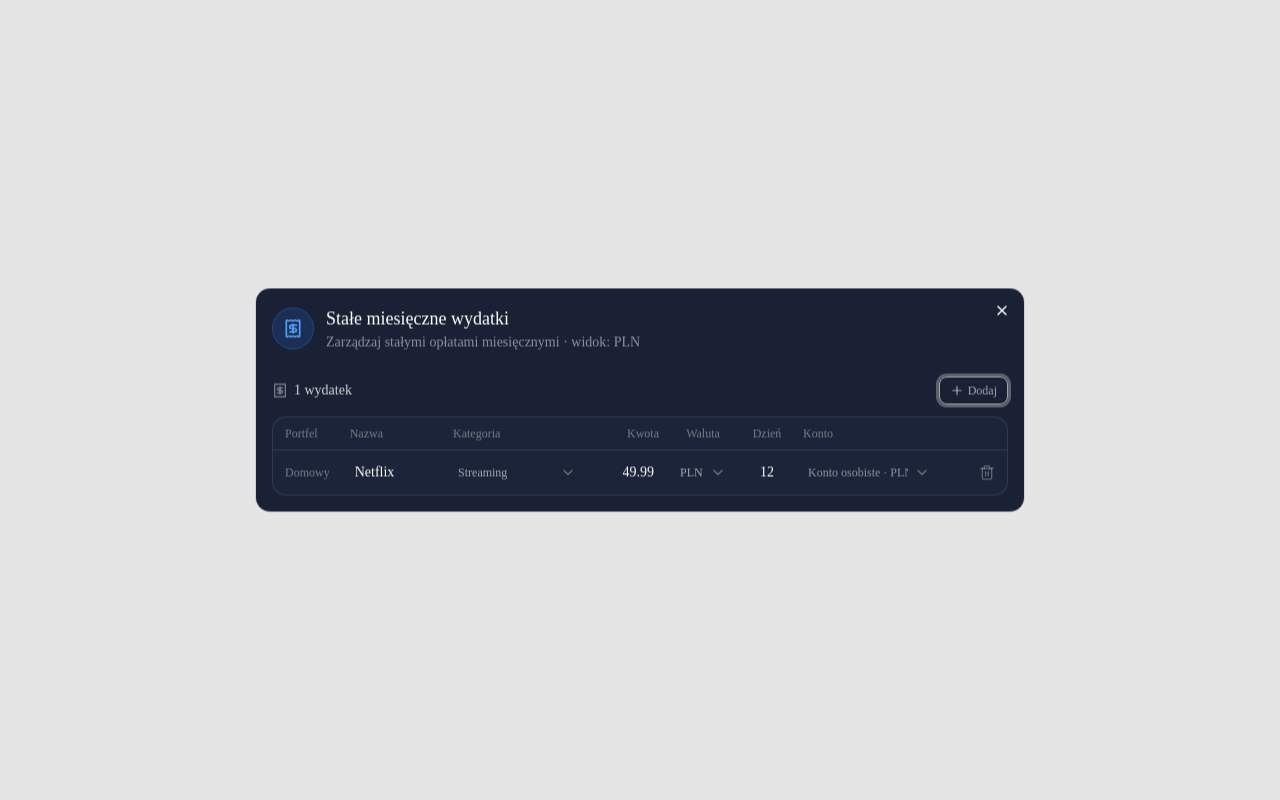
it: RecurringExpensesDialog › keeps existing recurring categories available in the category select
Click the button "Dodaj".
click(973, 390)  # box [939,376,1008,404]
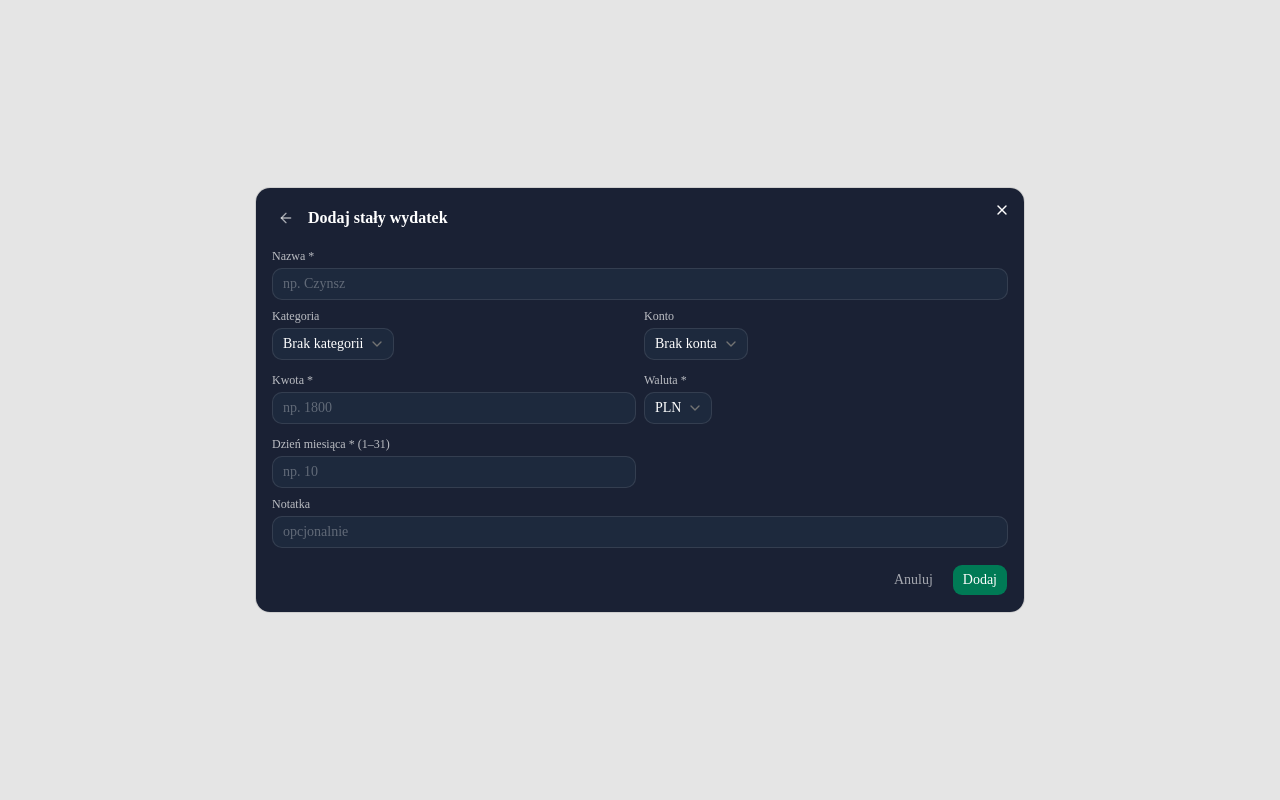
Now the heading "Dodaj stały wydatek" is shown, box [308,206,448,230]
Click the dropdown labelled "Brak kategorii".
click(333, 344)  # box [272,328,394,360]
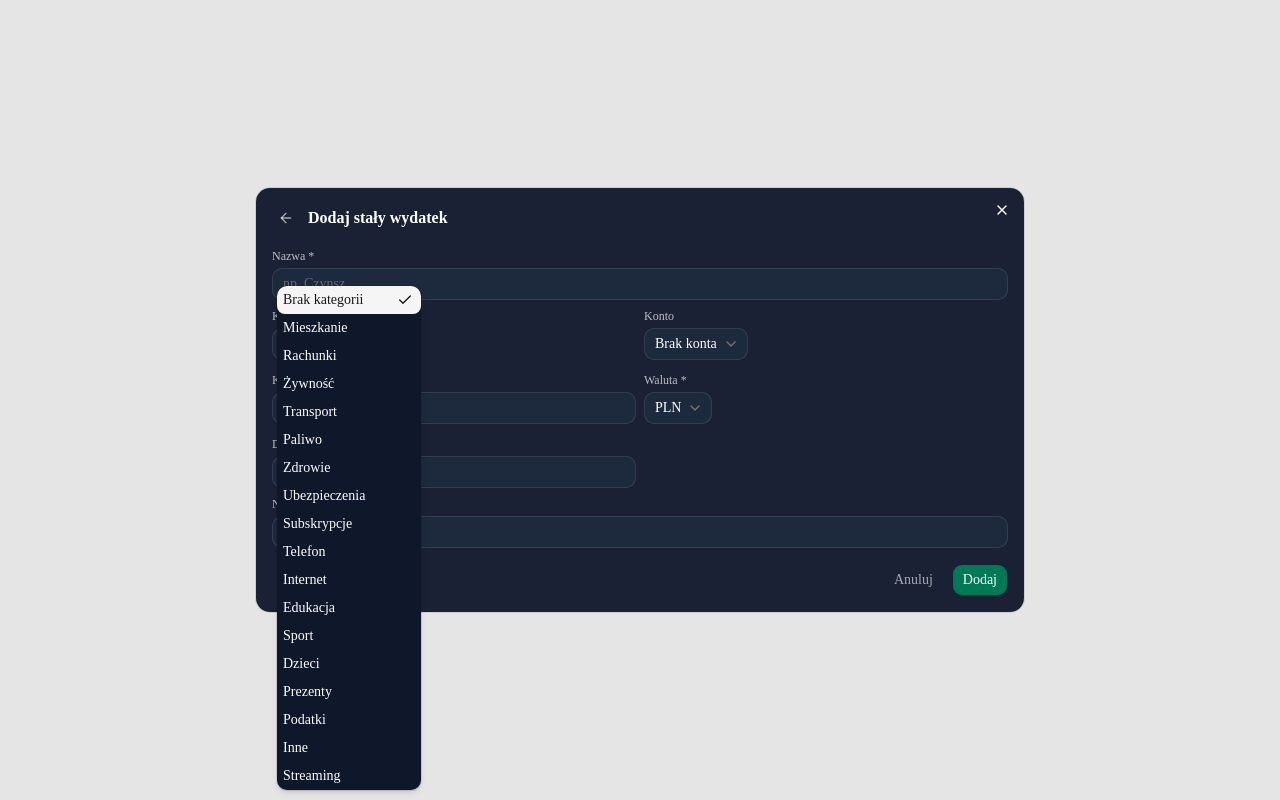
Now the option "Streaming" is shown, box [283,768,340,783]
